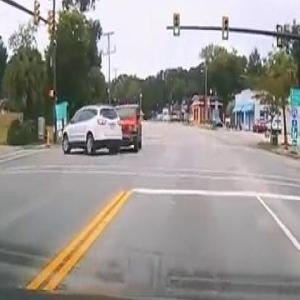negligible: (61, 90, 144, 162)
